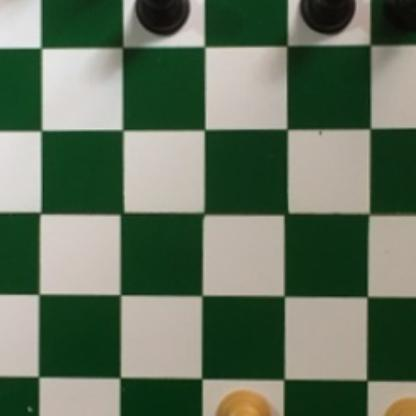black-pawn: (130, 0, 190, 36), (297, 0, 357, 36), (385, 0, 416, 31)
white-pawn: (215, 387, 271, 416), (378, 393, 416, 416)
